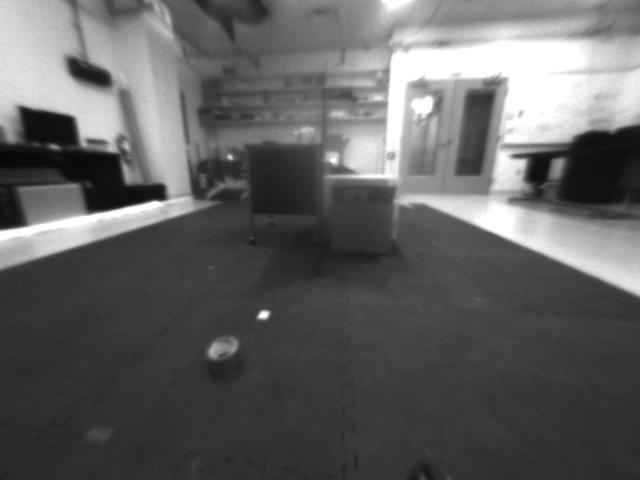dogtoy: (187, 329, 256, 381)
